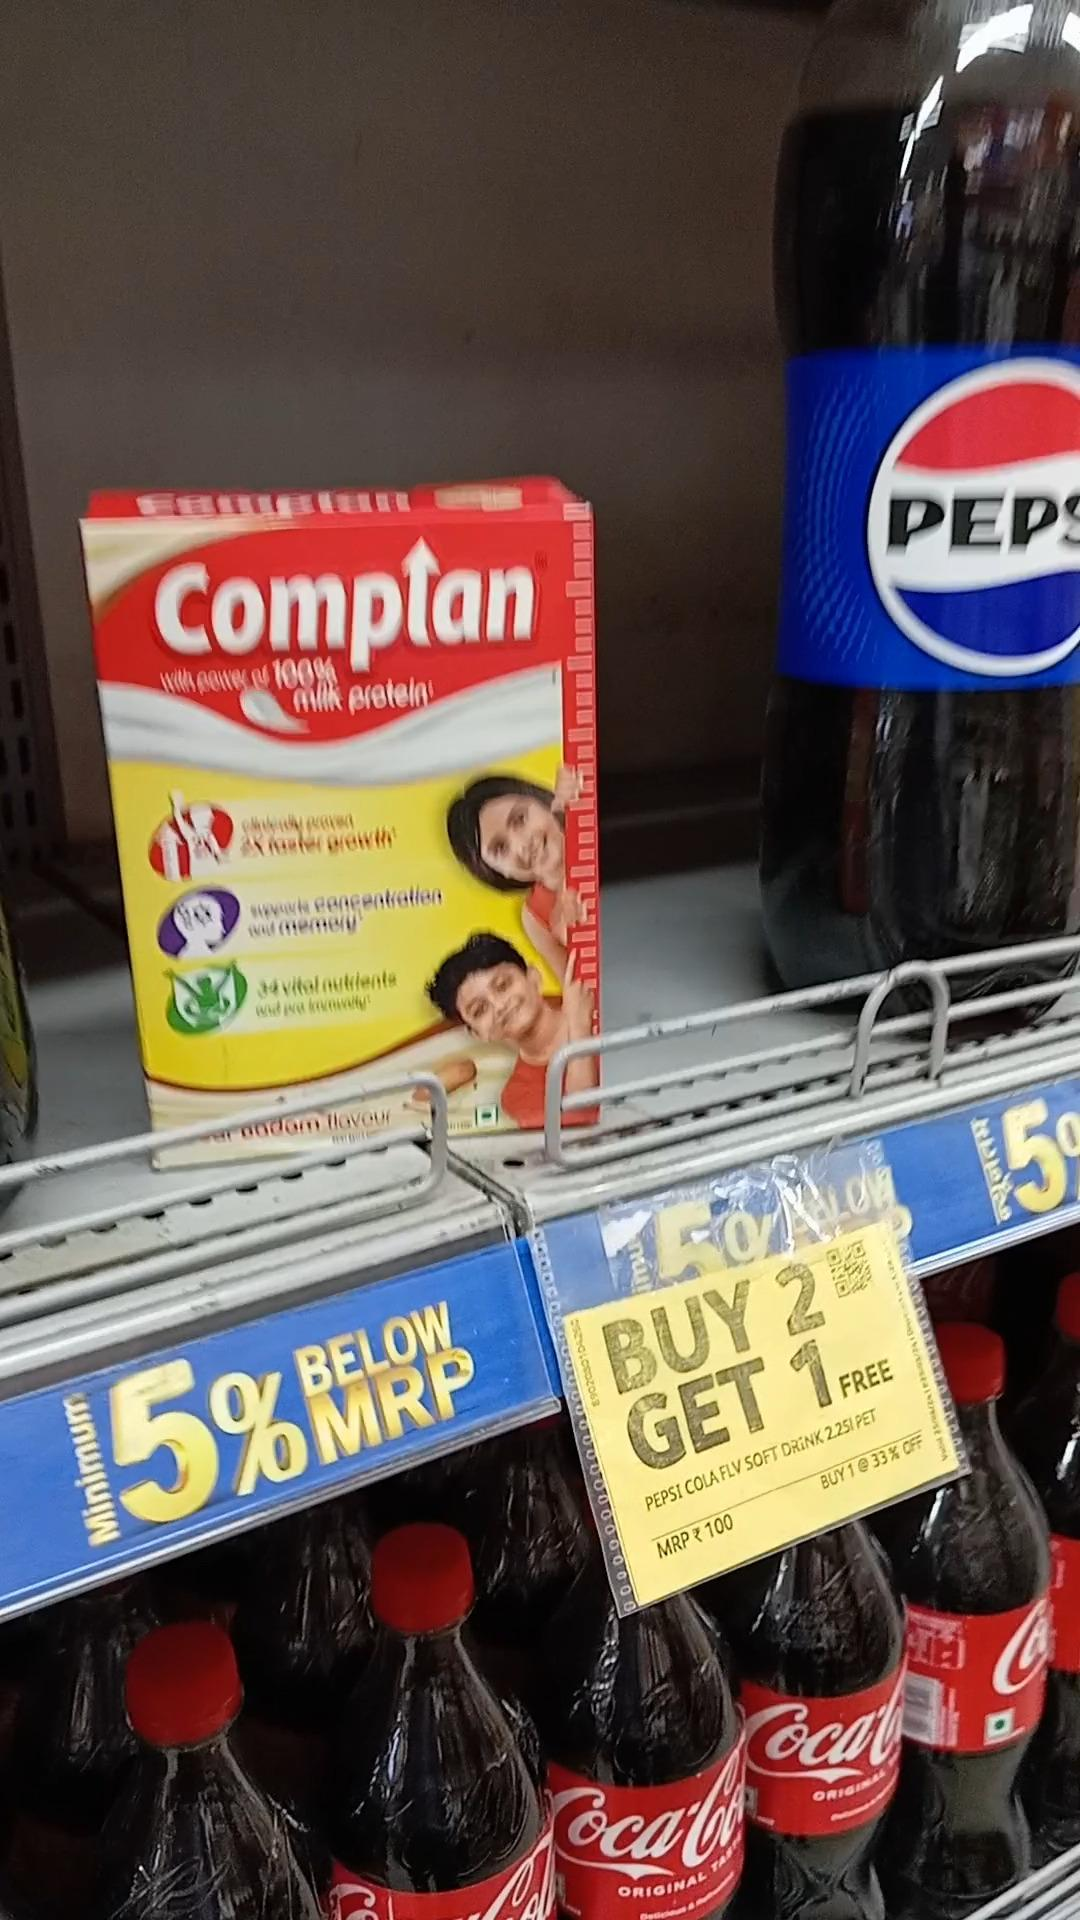COMPLAN_CHOCOLATE_200_GMS_JAR: (132, 516, 596, 1127)
